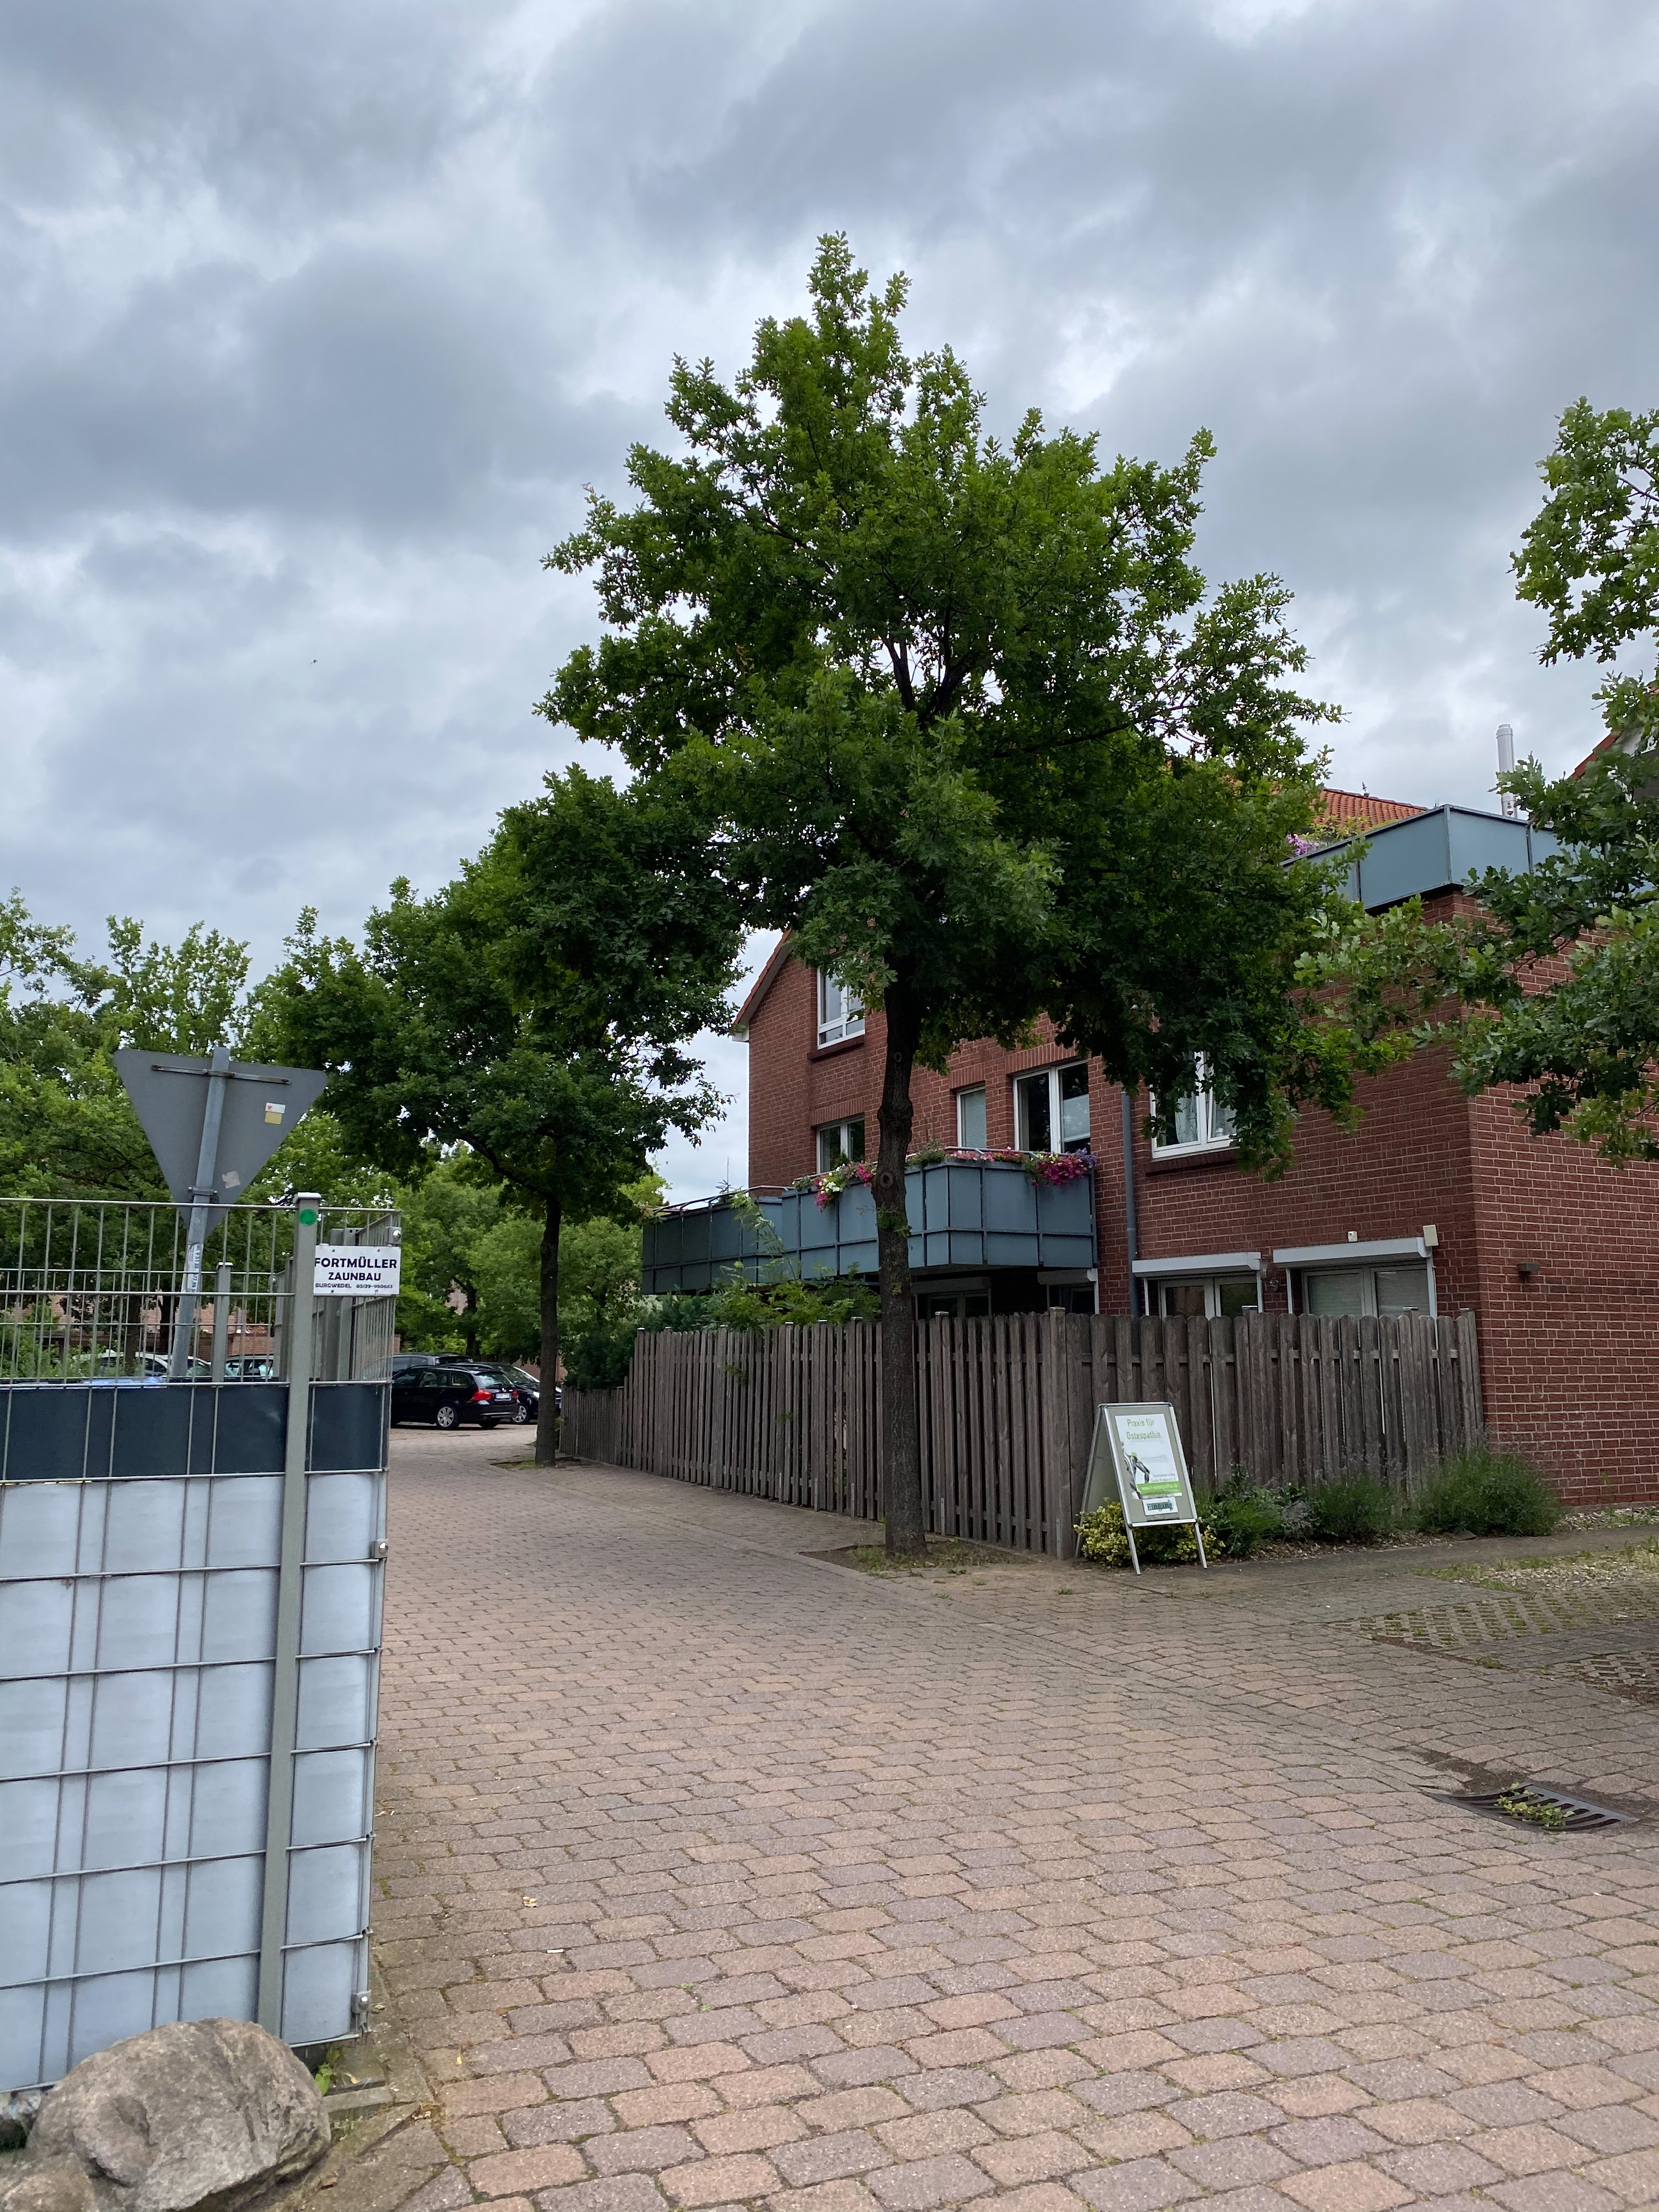tree: (530, 228, 1415, 1561), (1291, 395, 1659, 1170), (362, 761, 755, 1468), (19, 914, 295, 1376), (408, 1141, 525, 1357)
